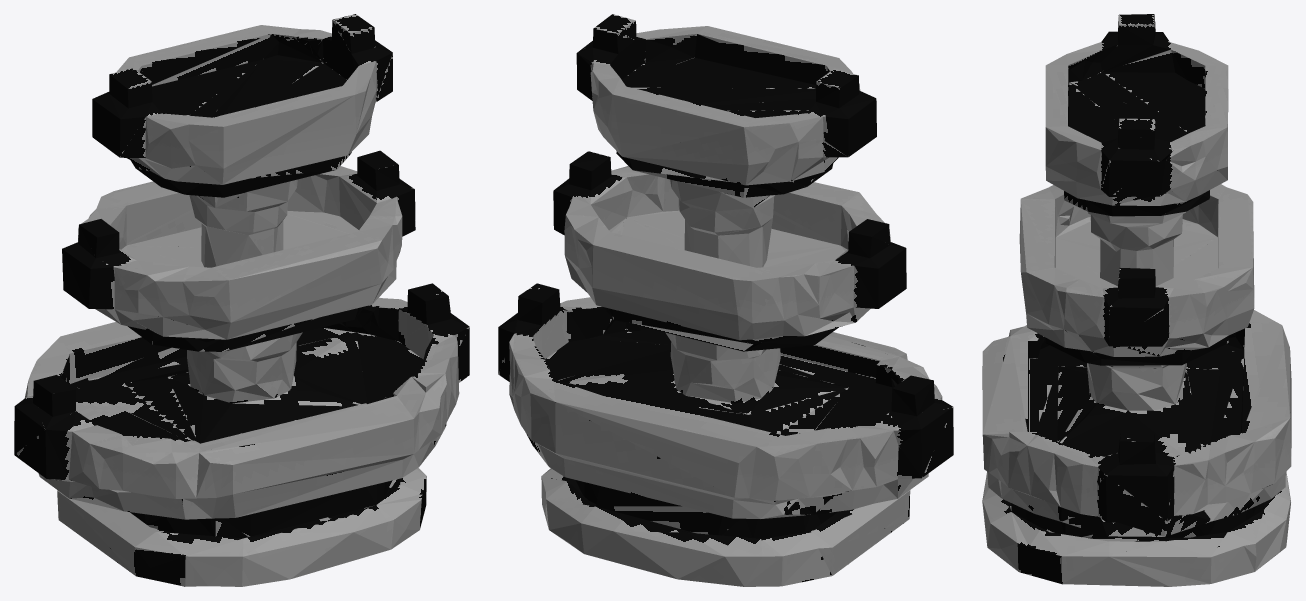
The picture shows the model from 3 angles, left to right: view 1: azimuth 30°, elevation 25°; view 2: azimuth 150°, elevation 25°; view 3: azimuth 270°, elevation 25°; orthographic projection. The views are drawn at different scales.
Visible parts, largest first — view 1: OBJ12e; view 2: OBJ12e; view 3: OBJ12e.
Part boxes in pixels (x1,y1,x2,y2): OBJ12e: [14, 14, 469, 586]; OBJ12e: [498, 14, 953, 586]; OBJ12e: [982, 14, 1291, 586].
Size of the model in its own units: 0.3621 by 0.3778 by 0.2376.
1 material, 1 textured.
